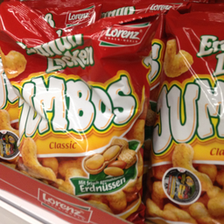chips: (5, 6, 162, 216), (150, 11, 224, 223)
